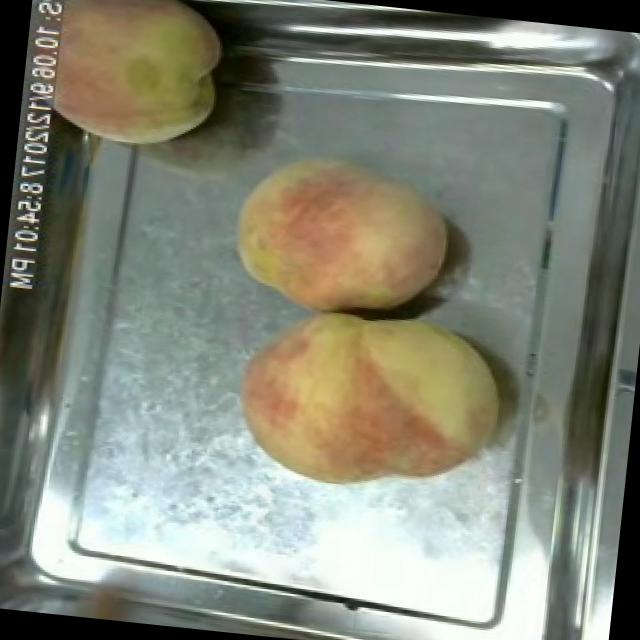Fruit: (220, 290, 512, 509), (216, 136, 462, 333), (32, 0, 235, 160)
